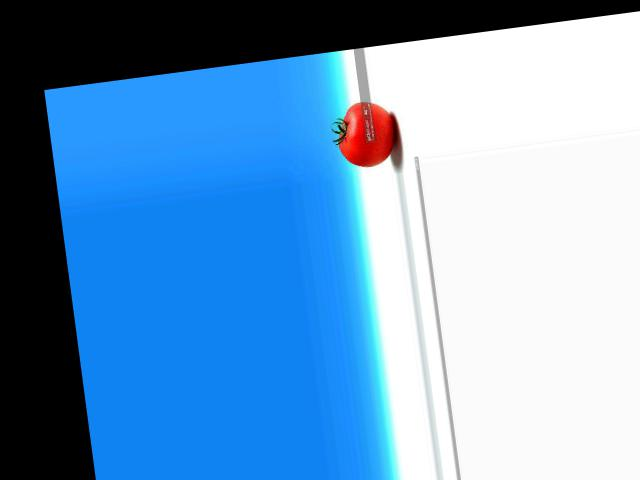tomato: (333, 97, 397, 169)
